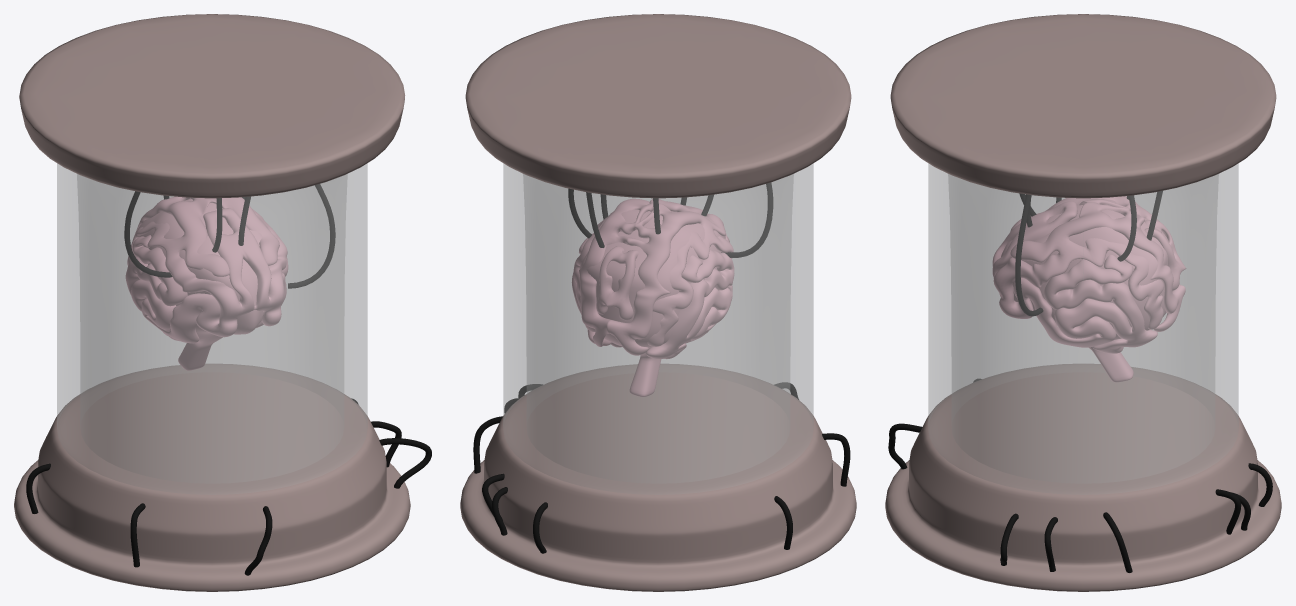
Rendered from jar.gltf.
3 views of the same model, side by side, from view 1: azimuth 30°, elevation 25°; view 2: azimuth 150°, elevation 25°; view 3: azimuth 270°, elevation 25° (orthographic).
Visible parts, largest first — view 1: Cylinder, Circle, Circle.001, cerveau, Cube.001, BezierCurve.001, BezierCurve; view 2: Cylinder, Circle, Circle.001, cerveau, Cube.001, BezierCurve.001, BezierCurve; view 3: Cylinder, Circle, Circle.001, cerveau, Cube.001, BezierCurve.001, BezierCurve.
Part boxes in pixels (x1=…): Cylinder: x1=57, y1=163, x2=367, y2=494; Circle: x1=14, y1=364, x2=410, y2=591; Circle.001: x1=19, y1=14, x2=405, y2=198; cerveau: x1=125, y1=196, x2=288, y2=343; Cube.001: x1=136, y1=198, x2=263, y2=370; BezierCurve.001: x1=26, y1=398, x2=431, y2=575; BezierCurve: x1=124, y1=184, x2=335, y2=288; Cylinder: x1=503, y1=163, x2=813, y2=494; Circle: x1=460, y1=364, x2=856, y2=591; Circle.001: x1=465, y1=14, x2=851, y2=198; cerveau: x1=572, y1=198, x2=734, y2=359; Cube.001: x1=579, y1=209, x2=725, y2=396; BezierCurve.001: x1=473, y1=382, x2=850, y2=553; BezierCurve: x1=568, y1=182, x2=773, y2=257; Cylinder: x1=928, y1=163, x2=1238, y2=494; Circle: x1=885, y1=364, x2=1281, y2=591; Circle.001: x1=890, y1=14, x2=1276, y2=198; cerveau: x1=992, y1=196, x2=1186, y2=353; Cube.001: x1=999, y1=199, x2=1168, y2=382; BezierCurve.001: x1=888, y1=379, x2=1272, y2=572; BezierCurve: x1=1015, y1=191, x2=1162, y2=316.
Bounding box in the file's own units: 1.03 × 1.17 × 1.
